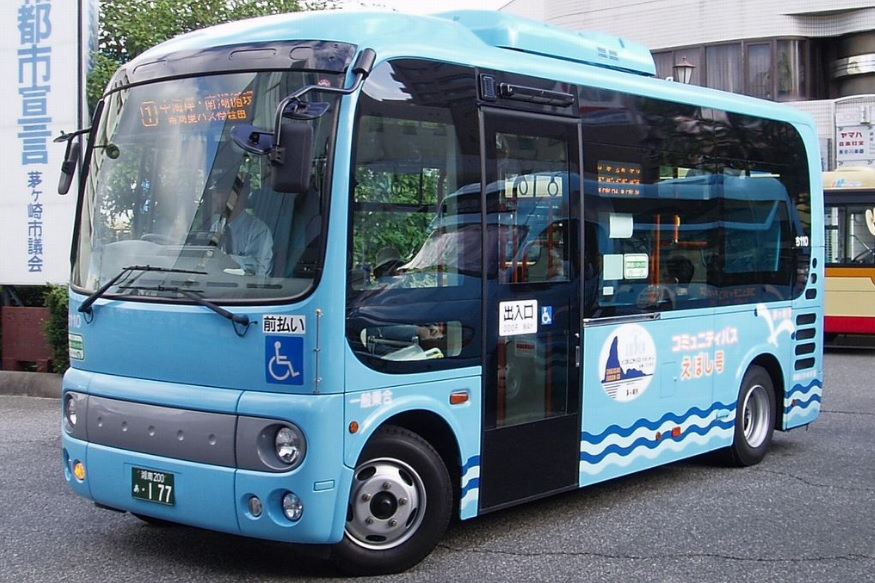bus: (60, 10, 825, 577)
